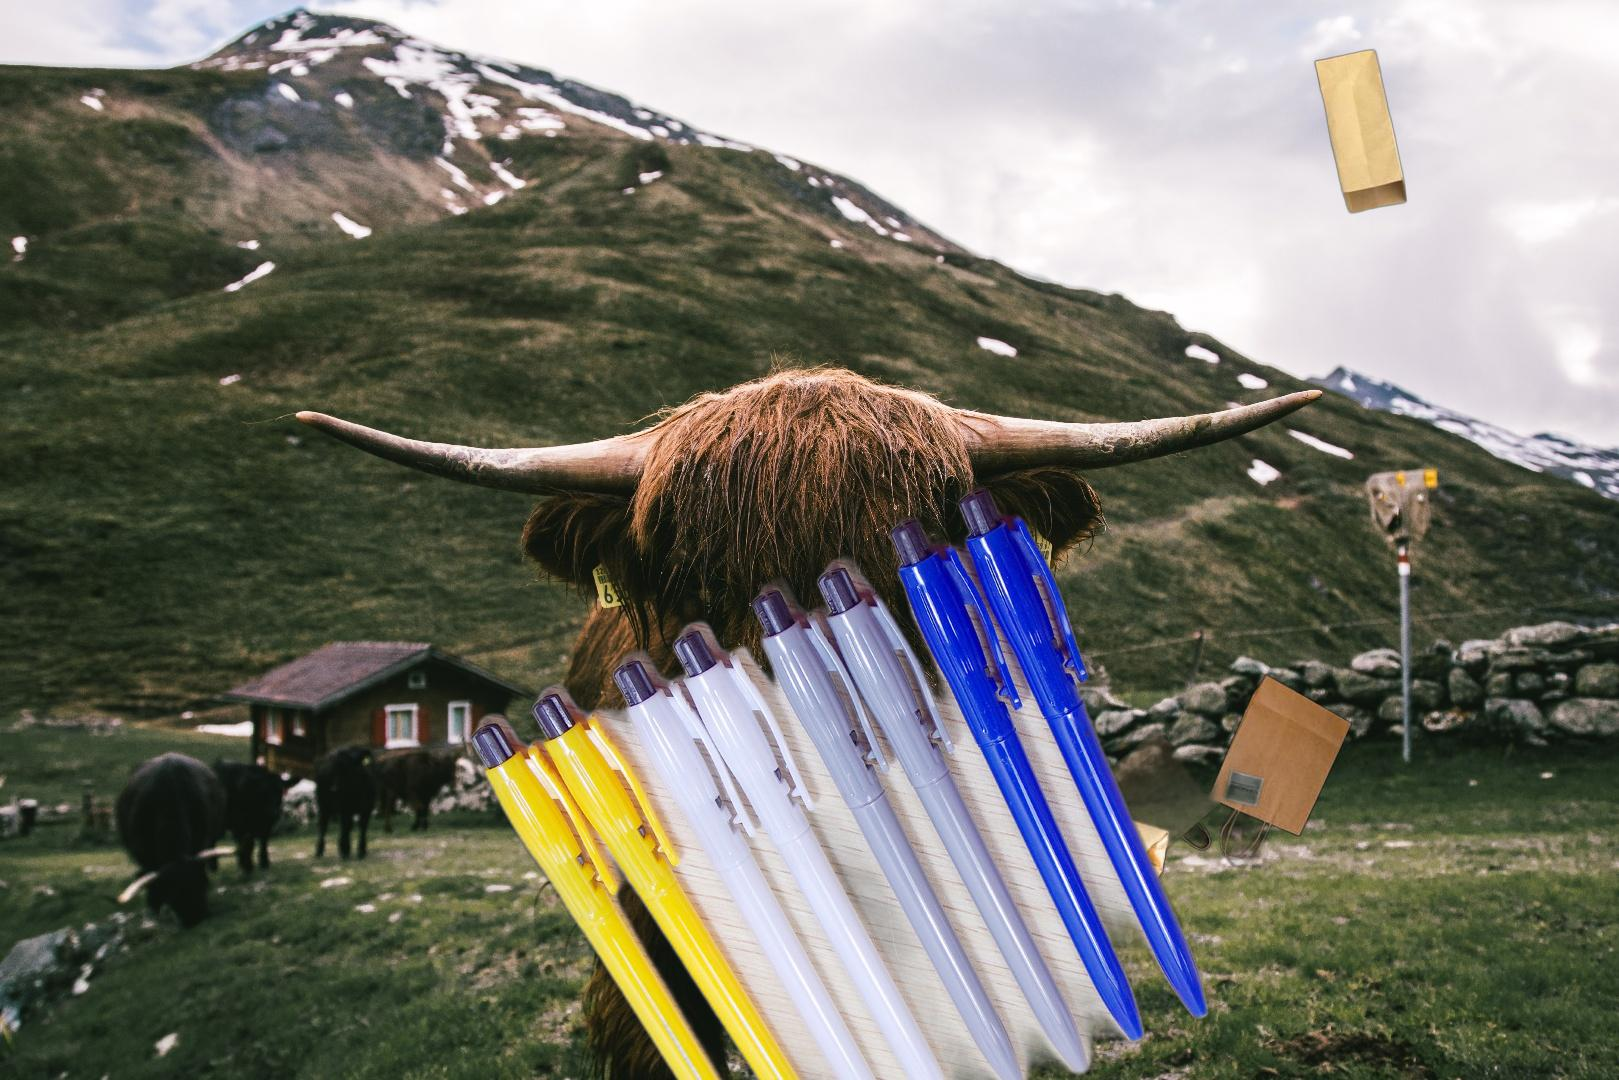paper-bag: (1058, 641, 1355, 904), (1312, 47, 1410, 216)
penholder: (465, 475, 1216, 1080)
